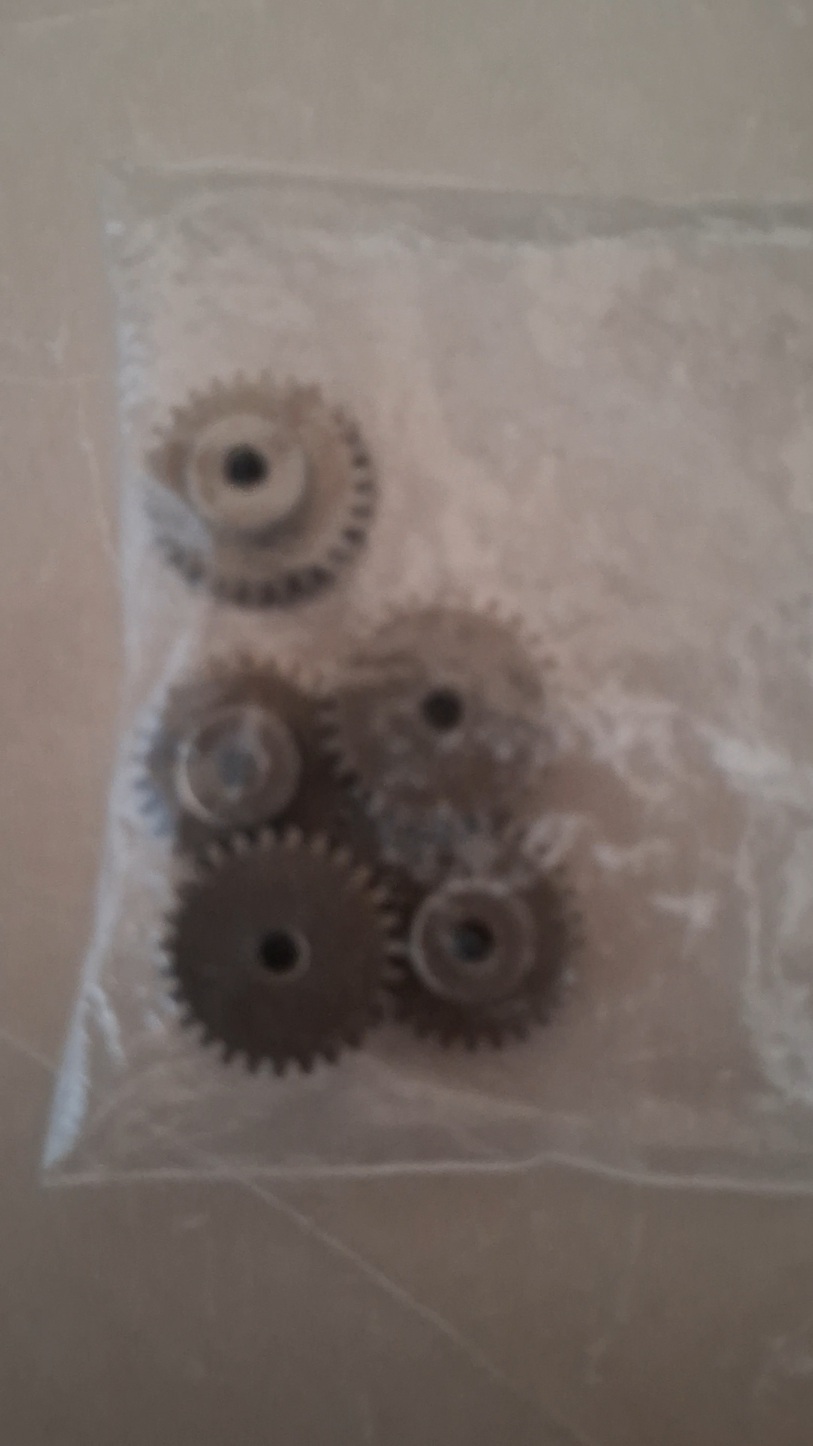spur gear: (165, 836, 387, 1073), (140, 393, 364, 617), (322, 615, 534, 826), (134, 669, 319, 853), (390, 873, 570, 1045)
